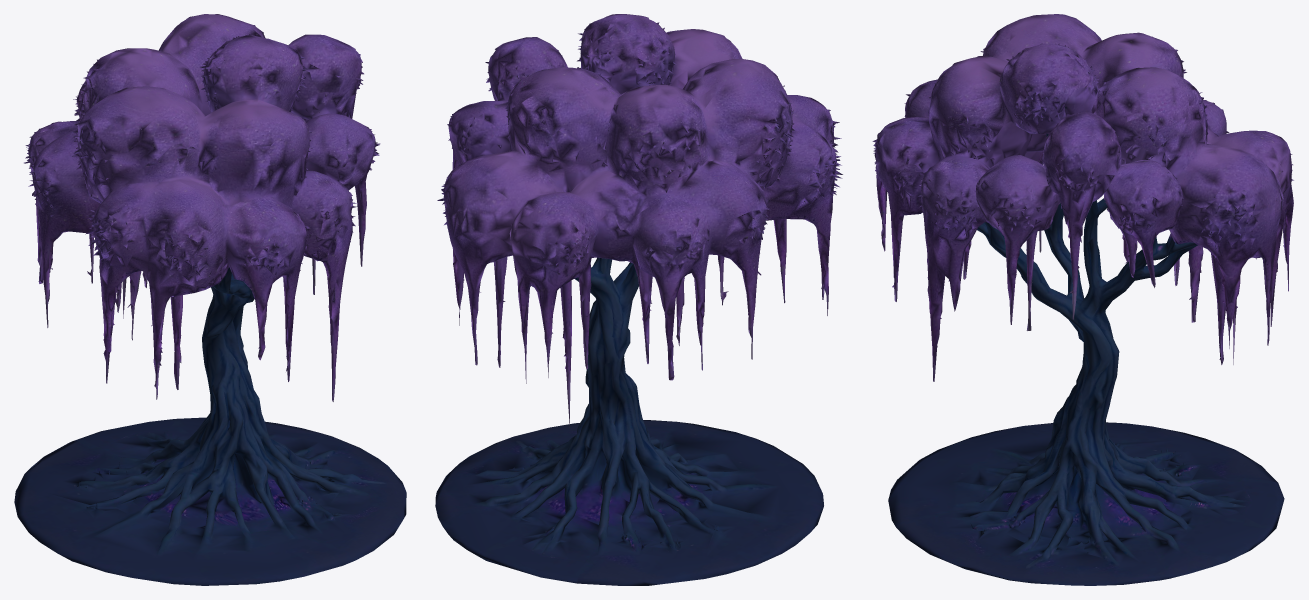
Rendered from tree_willow.glb.
3 views of the same model, side by side, from view 1: azimuth 30°, elevation 25°; view 2: azimuth 150°, elevation 25°; view 3: azimuth 270°, elevation 25° (orthographic).
Parts seen in each view (by area): view 1: tripo_node_a3c3f989-4817-4023-9871-0db10860ac7d; view 2: tripo_node_a3c3f989-4817-4023-9871-0db10860ac7d; view 3: tripo_node_a3c3f989-4817-4023-9871-0db10860ac7d.
Part boxes in pixels (bbox=[...]): tripo_node_a3c3f989-4817-4023-9871-0db10860ac7d: bbox=[14, 14, 406, 585]; tripo_node_a3c3f989-4817-4023-9871-0db10860ac7d: bbox=[435, 14, 842, 585]; tripo_node_a3c3f989-4817-4023-9871-0db10860ac7d: bbox=[872, 14, 1293, 585].
Size of the model in its own units: 0.7527 by 0.9998 by 0.8176.
Materials: 1 (1 with a texture image).
